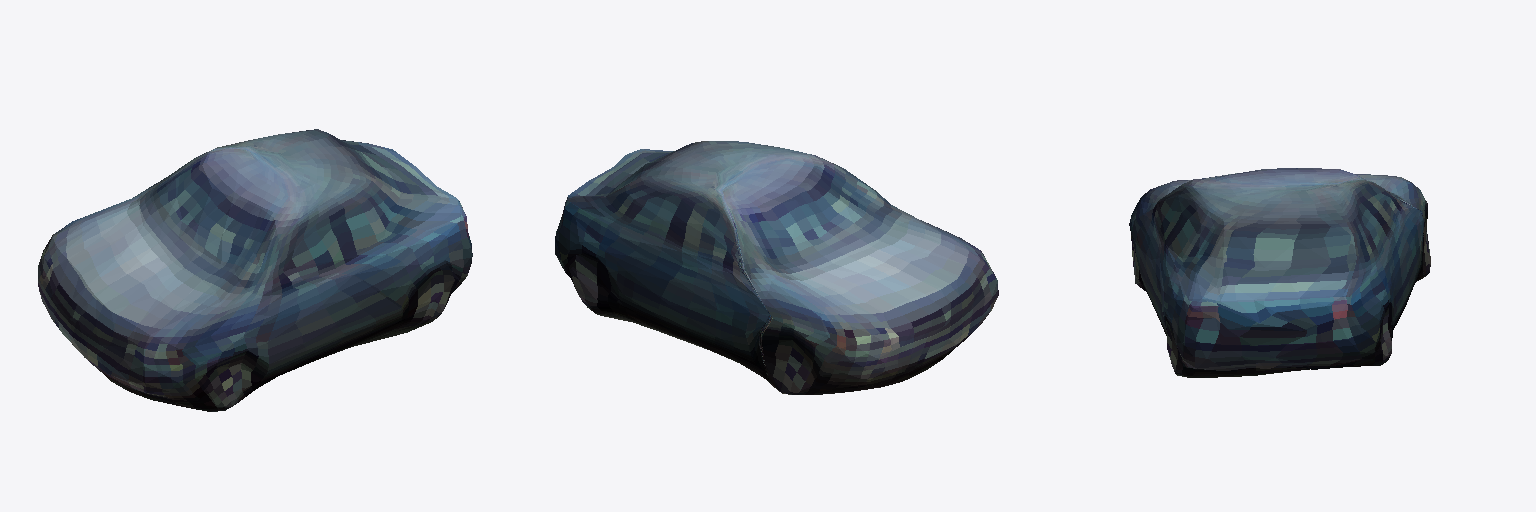
3 views of the same model, side by side, from view 1: azimuth 30°, elevation 25°; view 2: azimuth 150°, elevation 25°; view 3: azimuth 270°, elevation 25° (orthographic).
Size of the model in its own units: 1 by 0.4429 by 0.7167.
1 materials, 1 textured.